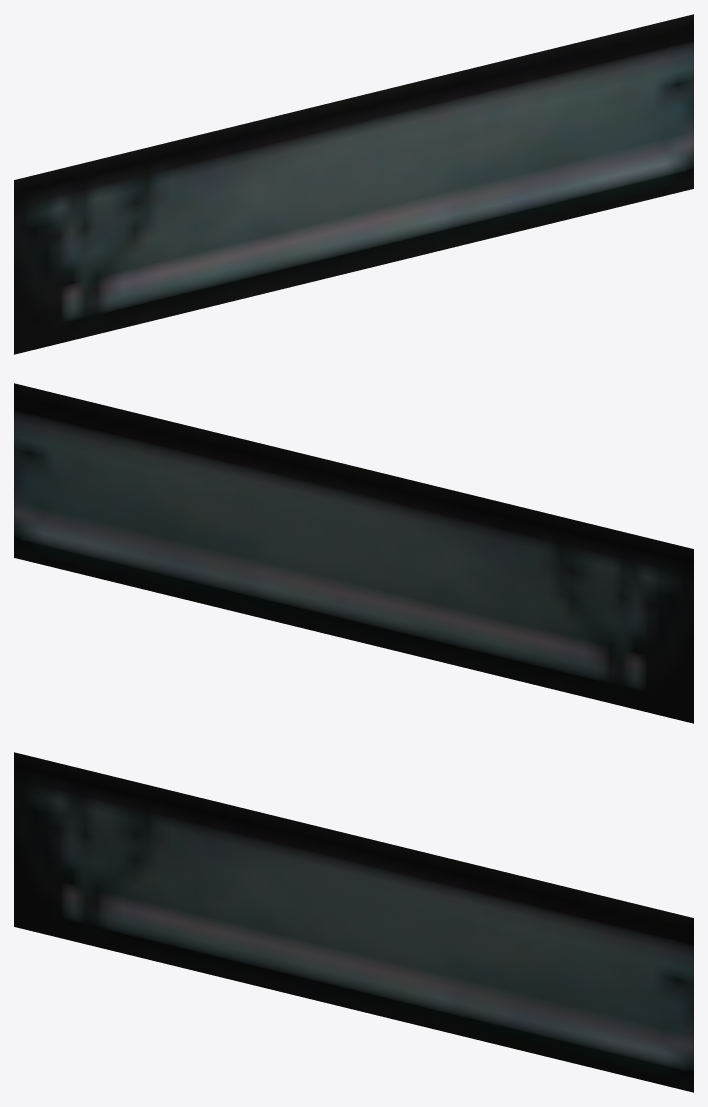
Rendered from city_doorWindow.fbx.
3 views of the same model, one above another, from view 1: azimuth 30°, elevation 25°; view 2: azimuth 150°, elevation 25°; view 3: azimuth 330°, elevation 25° (orthographic).
Parts seen in each view (by area): view 1: city_doorWindow; view 2: city_doorWindow; view 3: city_doorWindow.
Boxes of the visible parts, x1,y1,x2,y2 form: city_doorWindow: (14,14,693,354); city_doorWindow: (14,383,693,723); city_doorWindow: (14,752,693,1092).
Size of the model in its own units: 90.03 by 0.0011 by 22.09.
